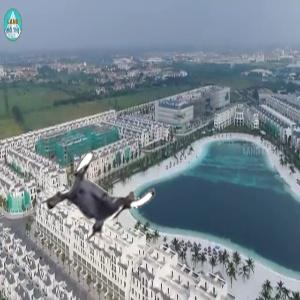drone: (48, 149, 149, 250)
